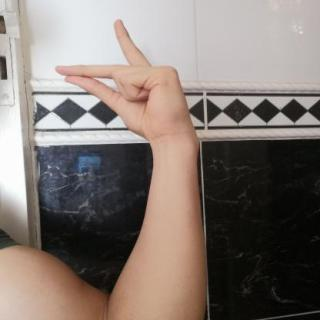TAA: (45, 12, 203, 146)
